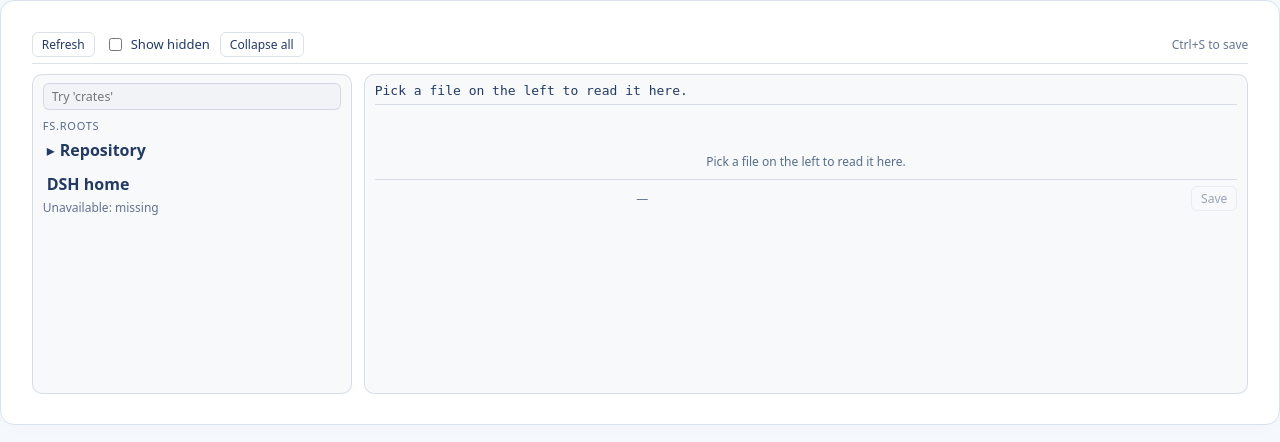
it: FileManagerPanel (FS-M2) › filters the loaded rows and reports the count
Click the button "▸ Repository" at (96, 150), box [43, 137, 150, 163]
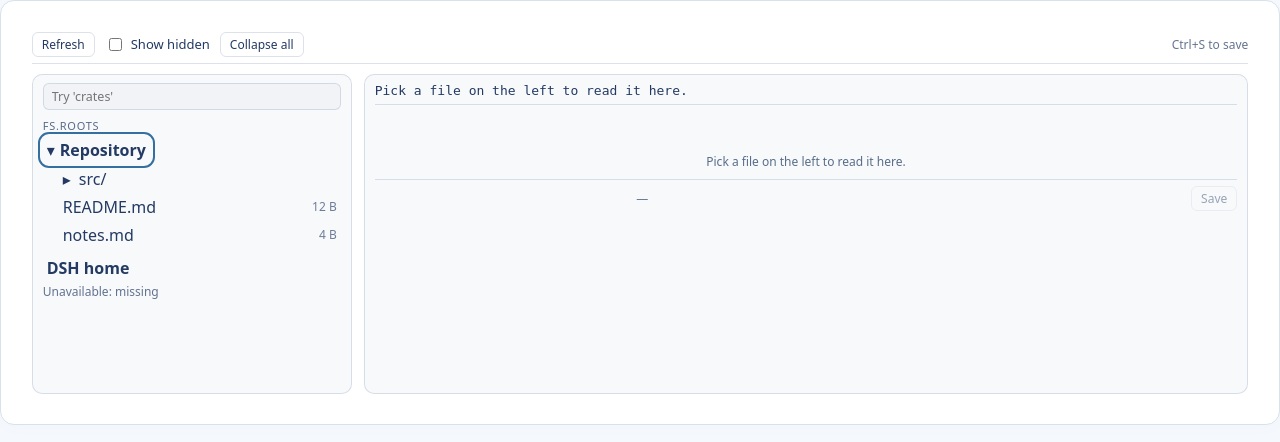
Result: the button "notes.md 4 B" is shown at [59, 221, 341, 249]
Type "read" into the field with test id "fm-filter" at (192, 96), box [43, 83, 341, 110]
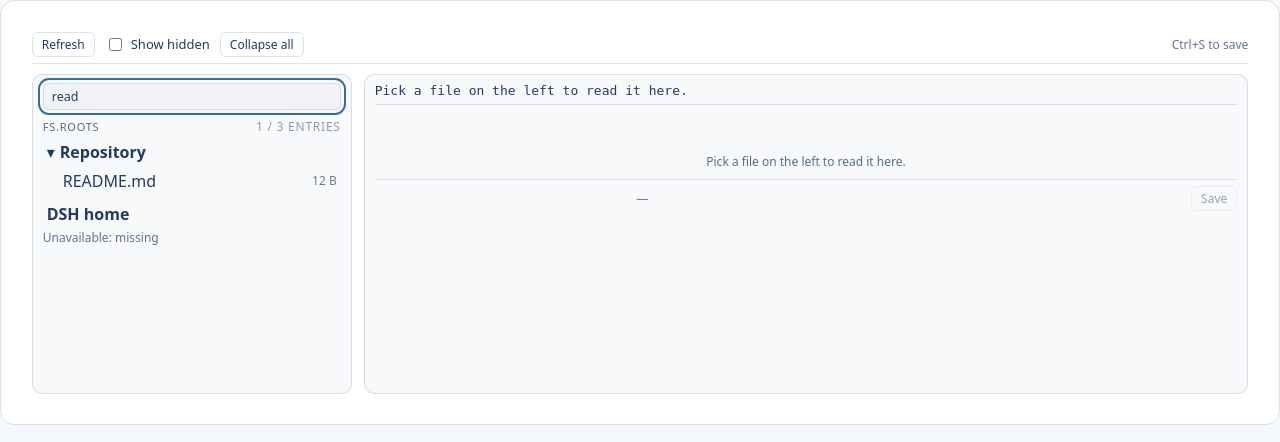
Result: the button "notes.md" is gone
Result: the text with test id "fm-filter-count" shows "1" at [256, 118, 341, 135]
